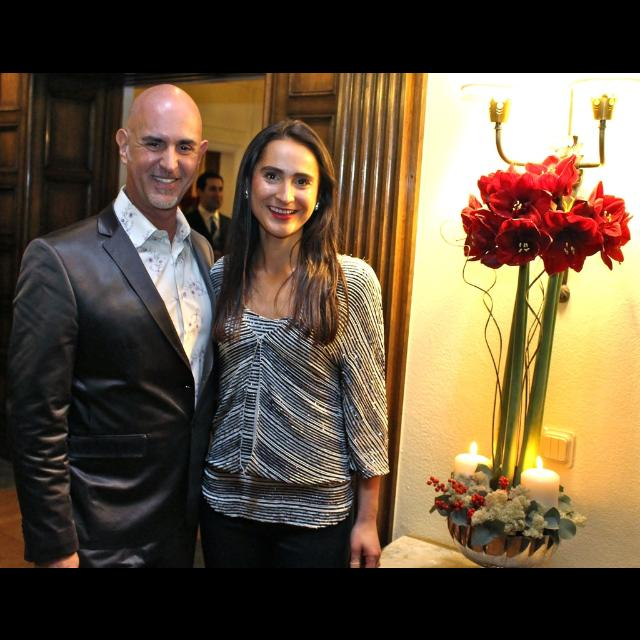Flower: (466, 141, 628, 273), (447, 469, 591, 538)
